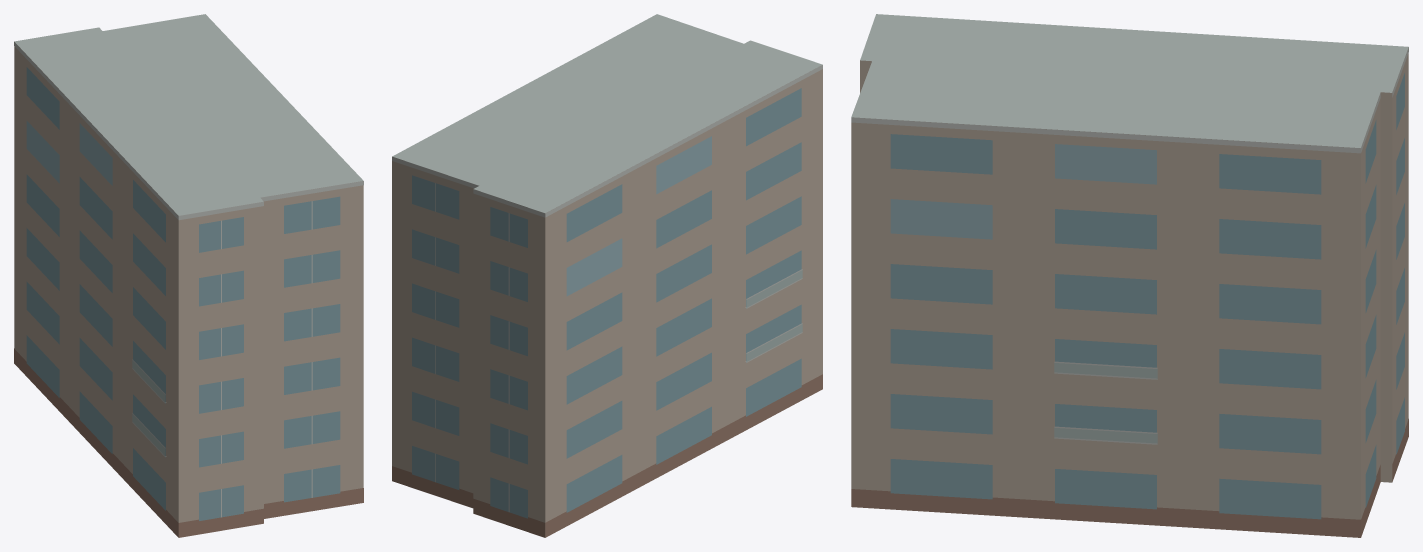
File: survey-upis-32743867.glb
The picture shows the model from 3 angles, left to right: view 1: azimuth 30°, elevation 25°; view 2: azimuth 150°, elevation 25°; view 3: azimuth 270°, elevation 25°; orthographic projection. The views are drawn at different scales.
Parts seen in each view (by area): view 1: survey-upis-32743867.tmp; view 2: survey-upis-32743867.tmp; view 3: survey-upis-32743867.tmp.
Part boxes in pixels (x1,y1,x2,y2): survey-upis-32743867.tmp: (14, 14, 363, 537); survey-upis-32743867.tmp: (392, 14, 822, 537); survey-upis-32743867.tmp: (851, 14, 1408, 537).
Bounding box in the file's own units: 13.37 × 18.1 × 23.48.
